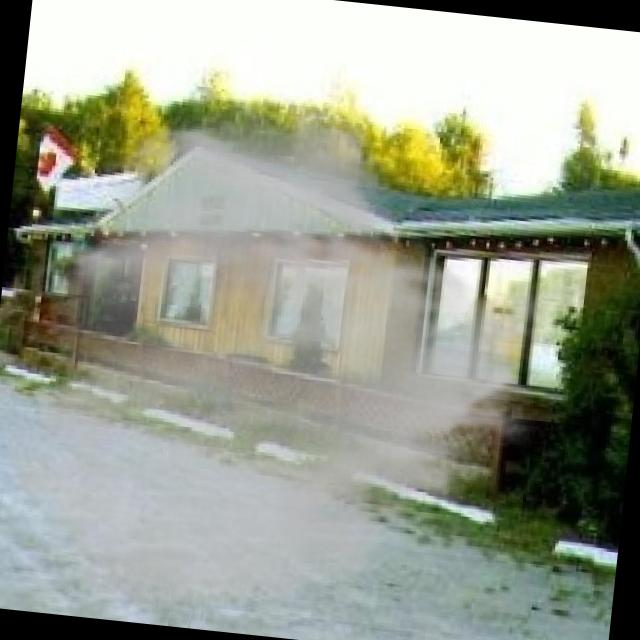Smoke: (0, 69, 579, 640)
